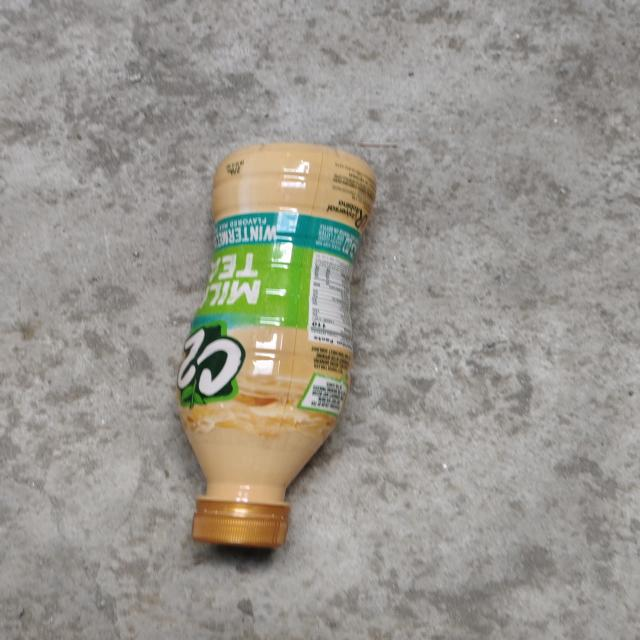Bottle: (177, 143, 376, 548)
